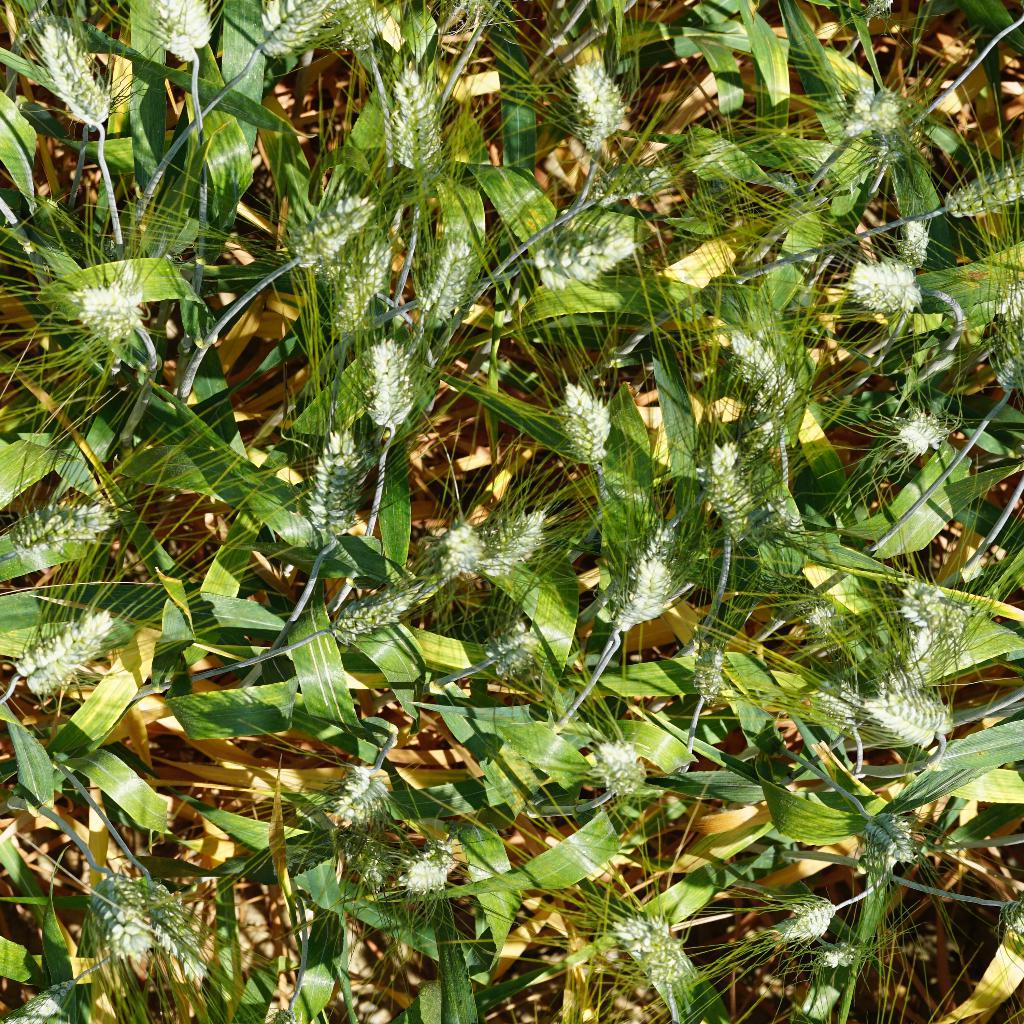0-0: (29, 7, 119, 142), (295, 412, 378, 551), (307, 563, 436, 651), (342, 331, 426, 452), (4, 605, 108, 702), (834, 239, 937, 333), (372, 51, 445, 182), (720, 321, 802, 437), (319, 231, 399, 349), (137, 864, 220, 975), (10, 486, 127, 564), (595, 899, 692, 989), (526, 219, 639, 296), (59, 258, 150, 352), (48, 221, 187, 280), (404, 208, 470, 332), (606, 545, 686, 645), (82, 866, 168, 959), (238, 0, 344, 73), (283, 185, 372, 271), (934, 149, 1024, 231), (481, 488, 548, 591), (905, 567, 964, 683), (860, 681, 968, 742), (556, 363, 615, 473), (830, 75, 908, 153), (570, 44, 630, 144), (141, 0, 223, 71), (578, 733, 657, 803), (336, 748, 403, 828), (857, 802, 928, 873), (769, 584, 853, 643), (325, 823, 396, 891), (792, 665, 859, 737), (0, 965, 81, 1024), (886, 396, 953, 467), (392, 836, 462, 901), (434, 496, 488, 579), (595, 471, 662, 535), (590, 152, 668, 206), (982, 266, 1024, 366), (766, 888, 838, 946), (752, 482, 814, 548), (484, 621, 546, 681), (709, 452, 752, 538), (881, 213, 946, 262), (687, 641, 736, 698), (801, 934, 863, 973), (432, 0, 500, 27), (253, 1000, 316, 1024), (852, 0, 905, 23)
